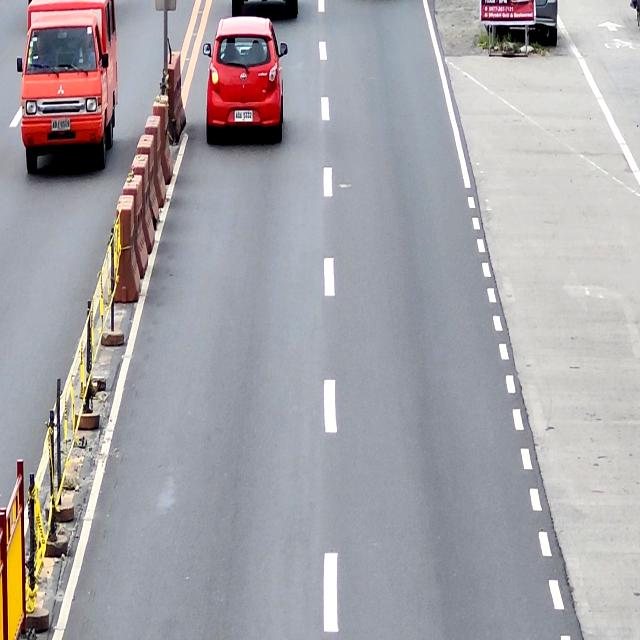Car: (203, 17, 289, 144)
License-Plate: (234, 110, 253, 123)
